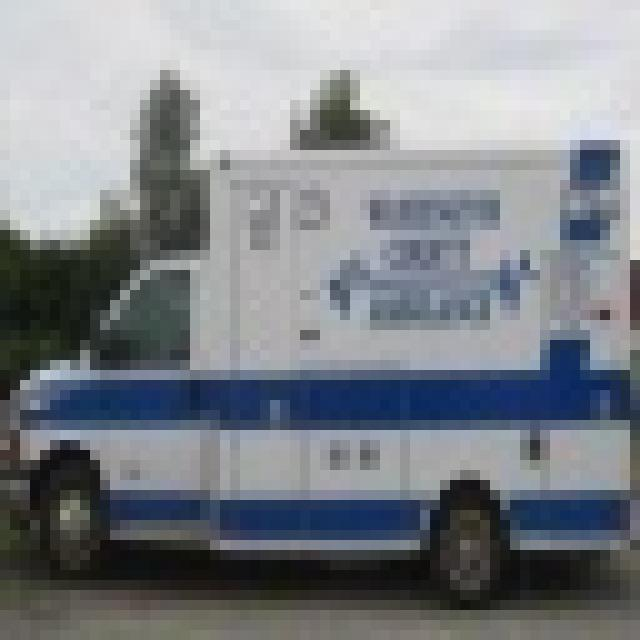ambulance: (0, 60, 630, 600)
